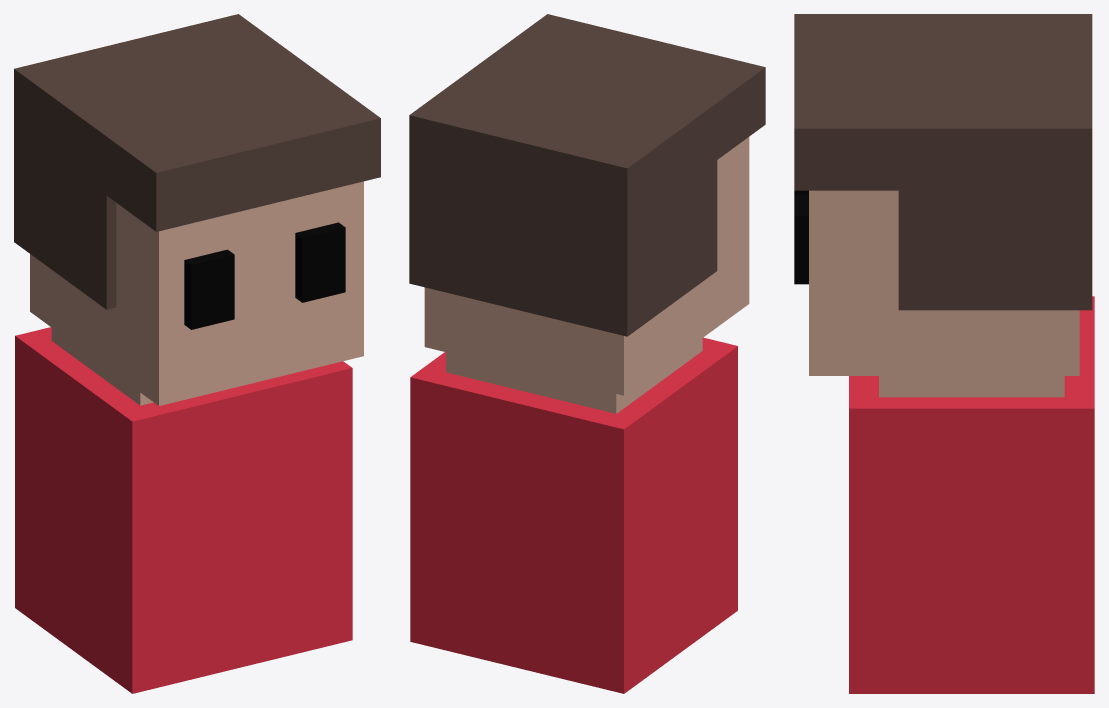
File: Suporter.glb
3 renders of one model, left to right at view 1: azimuth 30°, elevation 25°; view 2: azimuth 150°, elevation 25°; view 3: azimuth 270°, elevation 25°, orthographic. The views are drawn at different scales.
Visible parts, largest first — view 1: Body, Hair, Head, LEye, REye, Neck; view 2: Body, Hair, Head, Neck; view 3: Hair, Body, Head, Neck, LEye.
Boxes of the visible parts, x1,y1,x2,y2 form: Body: [15, 327, 352, 693]; Hair: [14, 14, 380, 309]; Head: [30, 181, 363, 405]; LEye: [295, 222, 345, 302]; REye: [184, 249, 234, 329]; Neck: [51, 328, 153, 405]; Body: [410, 337, 737, 693]; Hair: [409, 14, 765, 336]; Head: [424, 137, 749, 395]; Neck: [446, 338, 702, 413]; Hair: [794, 14, 1092, 310]; Body: [849, 296, 1094, 693]; Head: [809, 190, 1079, 375]; Neck: [879, 376, 1064, 397]; LEye: [794, 194, 808, 284].
Size of the model in its own units: 2.21 by 5.09 by 2.45.
